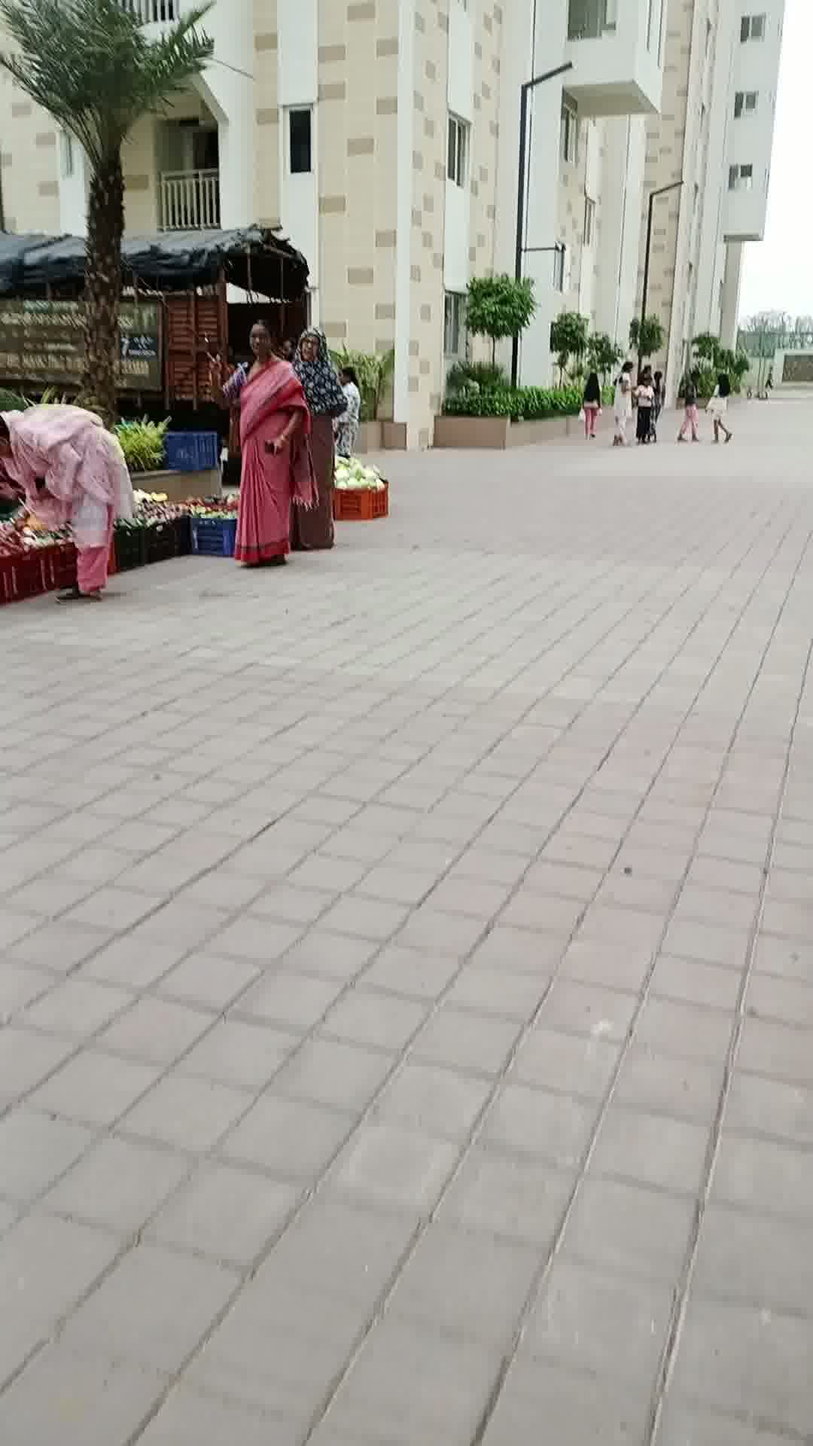person: (0, 362, 137, 601), (216, 290, 302, 578), (296, 296, 339, 578), (328, 350, 364, 465), (677, 362, 709, 457), (577, 361, 607, 445), (614, 355, 638, 453), (638, 367, 666, 449), (706, 362, 733, 443)
tree: (0, 3, 205, 404), (458, 248, 532, 441), (555, 270, 617, 387), (684, 306, 767, 383), (620, 290, 674, 367)
